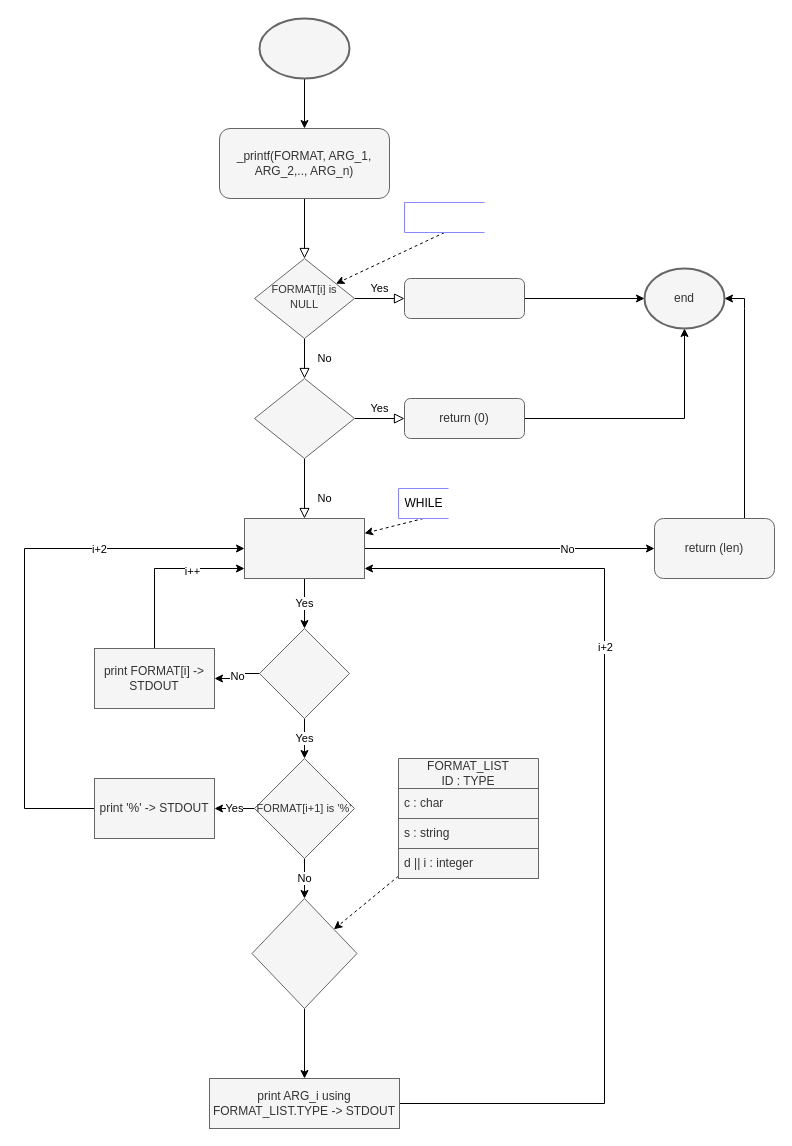
Some shapes in this 792 by 1146 pixel diagram are drawn without their labels. The centre of each missing label's shape, as x and y in pixels:
"FORMAT[0] is '\0'" goes at point 304,418.
"FORMAT[i+1] in FORMAT_LIST.ID" goes at point 304,953.
"FORMAT[i] is '%'" goes at point 304,673.
"FORMAT[i] is not '\0'" goes at point 304,548.
"integer i = 0" goes at point 444,217.
"return (-1)" goes at point 464,298.
"start" goes at point 304,48.
